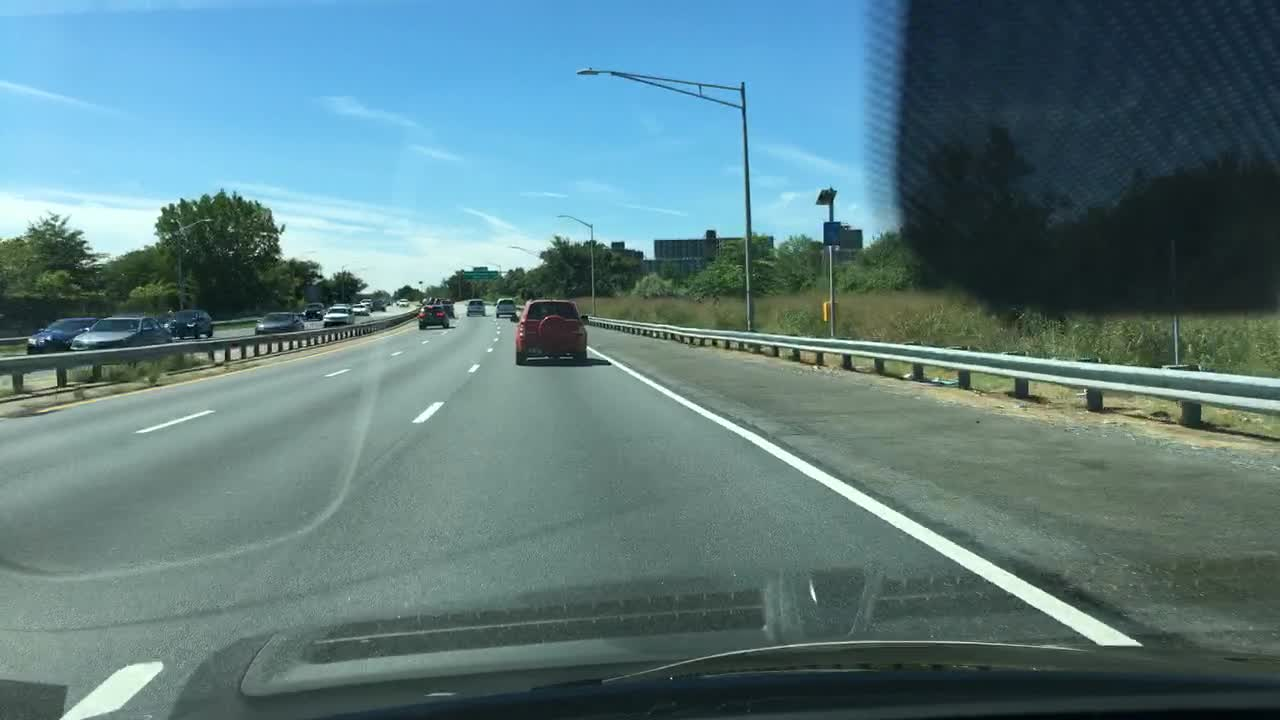car: (511, 295, 589, 362), (70, 315, 168, 351), (24, 314, 99, 353), (166, 306, 214, 340), (253, 309, 304, 333), (416, 303, 451, 330), (322, 301, 354, 326), (494, 297, 515, 320), (302, 300, 323, 319), (465, 299, 486, 317), (371, 296, 386, 311), (351, 302, 368, 314), (440, 297, 451, 315), (360, 296, 373, 308), (396, 297, 408, 308), (380, 297, 391, 307), (427, 294, 434, 303), (435, 295, 439, 304)
traffic sign: (840, 227, 862, 251), (820, 220, 840, 245), (460, 270, 497, 279), (471, 266, 488, 270)
